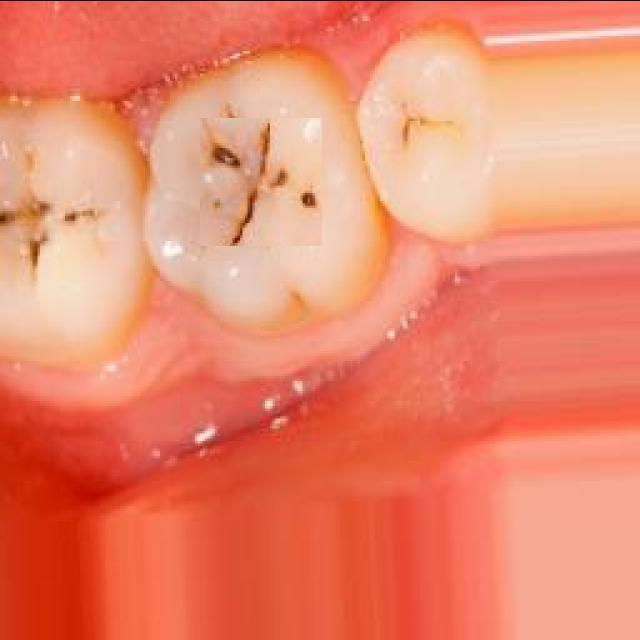caries: (200, 117, 322, 245), (3, 170, 95, 265)
